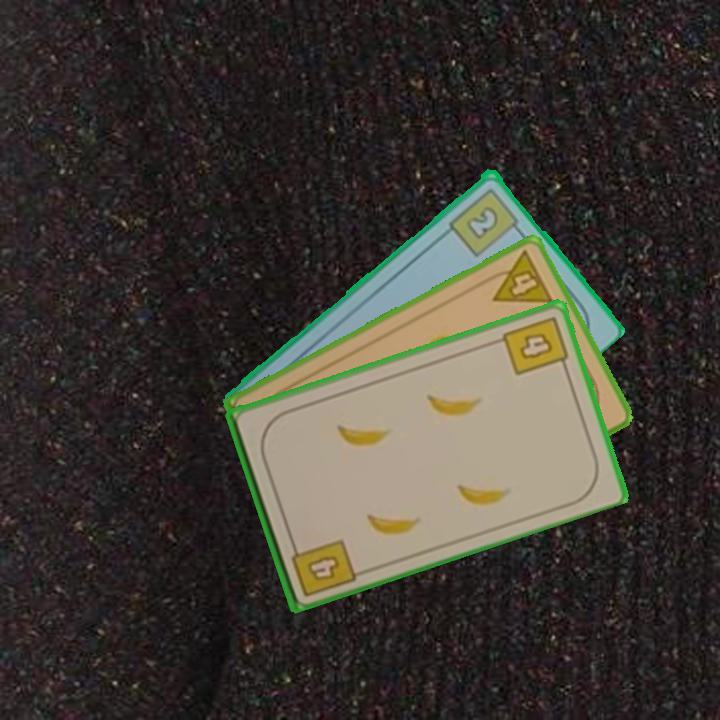2b: (445, 184, 525, 259)
4b: (499, 312, 571, 378), (287, 534, 358, 600)
4p: (480, 246, 557, 307)
